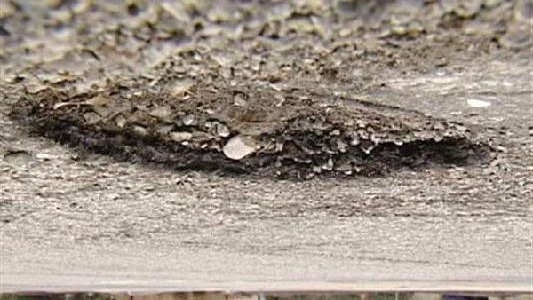pothole: (7, 53, 497, 182)
